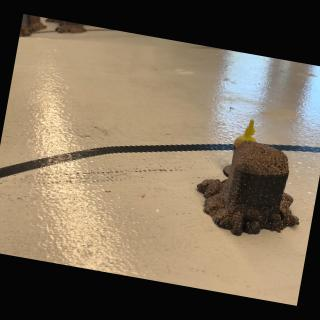teletubby: (233, 120, 257, 152)
